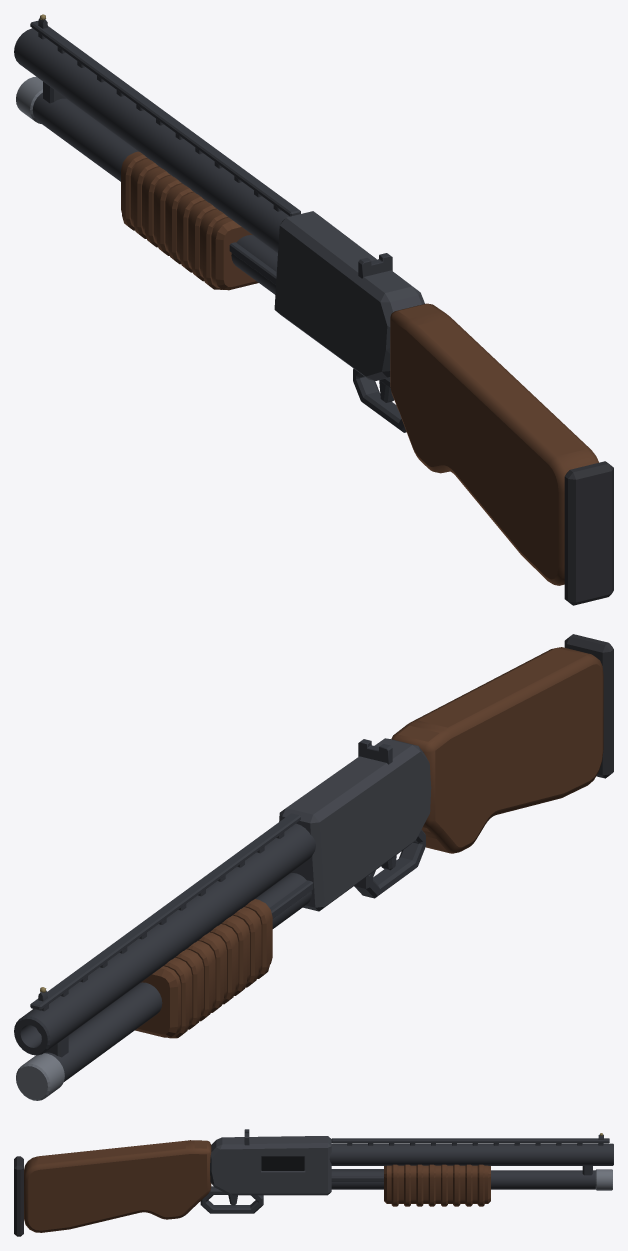
Rendered from w_shotgun@shotgun_classic.glb.
The picture shows the model from 3 angles, top to bottom: view 1: azimuth 30°, elevation 25°; view 2: azimuth 150°, elevation 25°; view 3: azimuth 270°, elevation 25°; orthographic projection. The views are drawn at different scales.
Visible parts, largest first — view 1: stock_wzA, barrel_wzB, body_wzA, pump_wzA, stock_wzB, body_wzB; view 2: stock_wzA, barrel_wzB, body_wzA, pump_wzA, stock_wzB, barrel_wzN, body_wzB, sight_wzN; view 3: stock_wzA, barrel_wzB, body_wzA, pump_wzA, body_wzB, stock_wzB, trim_wzN, pump_wzB, barrel_wzN.
Part boxes in pixels (left/top/right/bottom): stock_wzA: left=390, top=303, right=598, bottom=585; barrel_wzB: left=14, top=20, right=300, bottom=294; body_wzA: left=274, top=211, right=424, bottom=380; pump_wzA: left=121, top=151, right=258, bottom=290; stock_wzB: left=564, top=461, right=613, bottom=605; body_wzB: left=353, top=368, right=406, bottom=432; stock_wzA: left=391, top=647, right=603, bottom=853; barrel_wzB: left=14, top=813, right=315, bottom=1081; body_wzA: left=279, top=738, right=431, bottom=911; pump_wzA: left=135, top=899, right=272, bottom=1038; stock_wzB: left=564, top=634, right=613, bottom=778; barrel_wzN: left=16, top=1053, right=64, bottom=1100; body_wzB: left=354, top=829, right=425, bottom=898; sight_wzN: left=38, top=739, right=392, bottom=1001; stock_wzA: left=24, top=1140, right=211, bottom=1232; barrel_wzB: left=329, top=1138, right=613, bottom=1189; body_wzA: left=210, top=1136, right=331, bottom=1195; pump_wzA: left=384, top=1164, right=490, bottom=1206; body_wzB: left=200, top=1186, right=263, bottom=1213; stock_wzB: left=14, top=1156, right=23, bottom=1236; trim_wzN: left=261, top=1156, right=304, bottom=1170; pump_wzB: left=331, top=1169, right=383, bottom=1181; barrel_wzN: left=595, top=1169, right=612, bottom=1190.
Size of the model in its own units: 0.075 by 0.2092 by 1.15.
